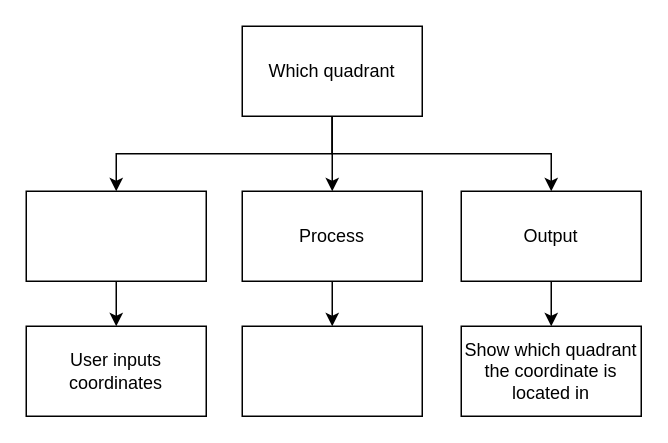
This 668x443 diagram has some shape labels left out. Here are the shapes that lost their labels. From the top down, the centre of each, then its label:
the point at 115,235: Input
the point at 331,370: If user_input_x and user_input_y == quadrant location
